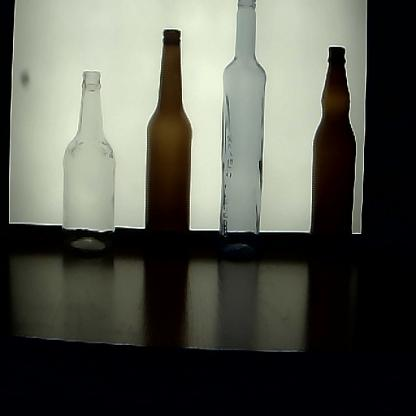Can: (216, 0, 268, 266), (306, 46, 363, 269), (142, 28, 194, 270), (61, 68, 119, 264)
